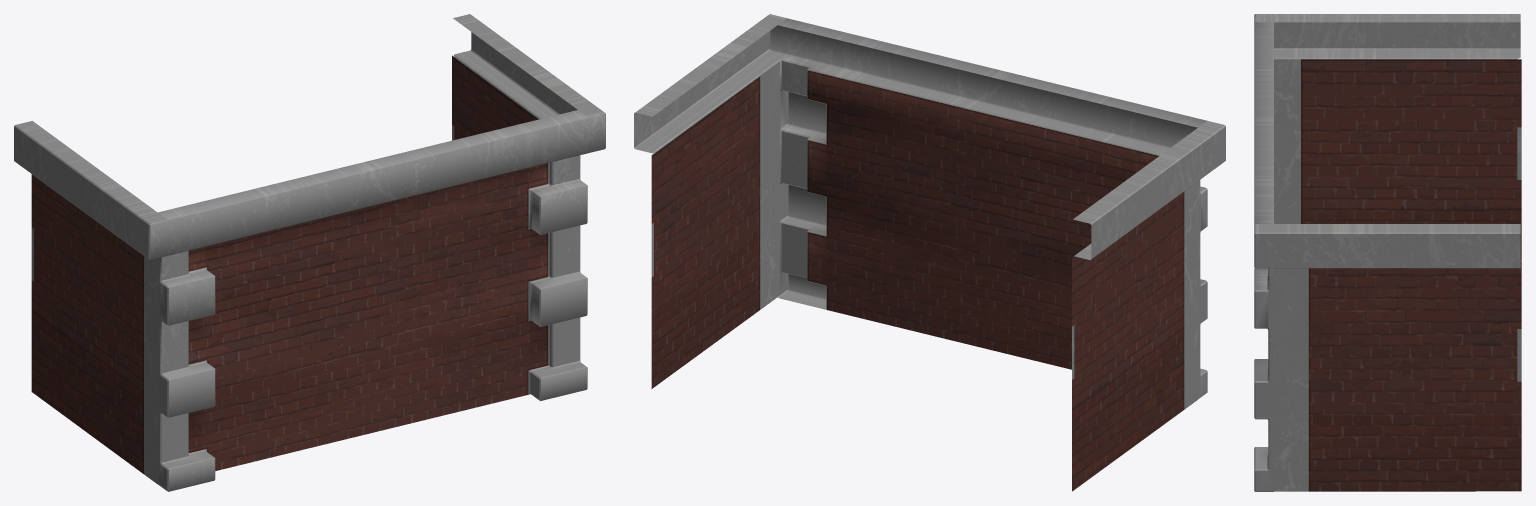
File: wall_2.FBX
3 views of the same model, side by side, from view 1: azimuth 30°, elevation 25°; view 2: azimuth 150°, elevation 25°; view 3: azimuth 270°, elevation 25° (orthographic).
Visible parts, largest first — view 1: Plane001; view 2: Plane001; view 3: Plane001.
Boxes of the visible parts, x1,y1,x2,y2 form: Plane001: (14, 14, 605, 491); Plane001: (634, 14, 1225, 491); Plane001: (1254, 14, 1521, 491).
Size of the model in its own units: 51.81 by 29.54 by 26.7.
Materials: 1 (1 with a texture image).
